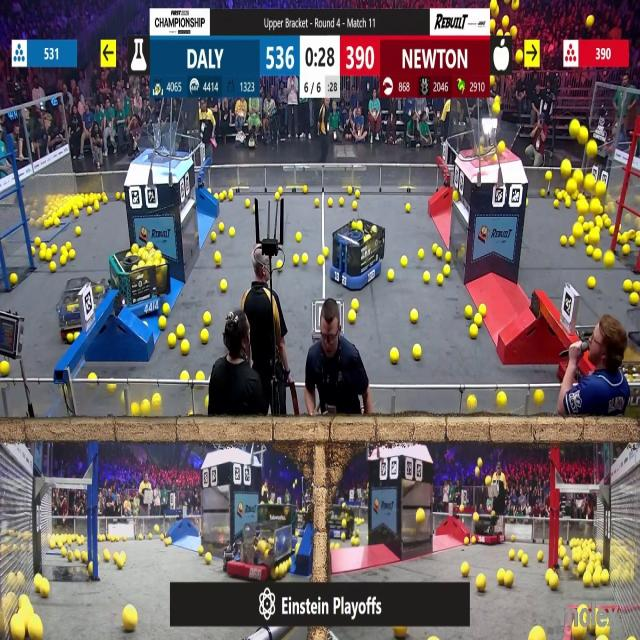ball_airborne: (569, 121, 579, 139), (585, 175, 595, 192), (562, 161, 572, 178), (588, 141, 598, 157), (577, 128, 587, 144), (589, 227, 599, 243), (591, 200, 601, 214), (574, 222, 582, 239), (596, 181, 605, 196), (604, 252, 613, 266), (580, 202, 589, 216), (567, 180, 576, 192), (573, 170, 581, 183), (498, 142, 505, 156), (630, 292, 638, 304), (624, 280, 632, 292), (587, 14, 595, 26), (517, 52, 524, 64), (493, 103, 500, 114), (491, 0, 498, 11), (502, 15, 508, 26), (512, 27, 518, 37), (490, 75, 496, 85), (486, 478, 492, 487), (478, 458, 484, 467), (505, 29, 511, 38), (491, 21, 496, 31), (492, 152, 498, 160), (494, 97, 500, 104), (475, 467, 479, 475), (500, 472, 504, 480), (498, 30, 502, 37)
ball_ground: (124, 608, 138, 633), (530, 628, 544, 640), (478, 576, 487, 594), (40, 582, 49, 599), (0, 360, 10, 375), (503, 570, 512, 586), (497, 392, 506, 407), (550, 574, 559, 589), (467, 395, 476, 410), (593, 571, 602, 586), (140, 403, 150, 416), (390, 348, 398, 364), (201, 328, 210, 342), (534, 390, 543, 404), (414, 345, 422, 360), (180, 341, 188, 355), (461, 562, 469, 576), (204, 312, 212, 326), (169, 335, 177, 349), (132, 404, 140, 418), (601, 570, 609, 584), (417, 510, 425, 524), (177, 324, 185, 337), (160, 316, 168, 329), (594, 248, 602, 261), (348, 311, 356, 324), (584, 573, 592, 586), (469, 324, 476, 338), (497, 570, 504, 584), (473, 314, 481, 326), (116, 557, 124, 569), (412, 310, 419, 323), (214, 252, 221, 265), (163, 304, 170, 316), (589, 277, 596, 289), (465, 307, 472, 319), (220, 280, 227, 292), (577, 562, 584, 574), (388, 271, 395, 282), (423, 273, 430, 284), (563, 558, 570, 569), (522, 555, 529, 566), (205, 554, 212, 565), (81, 552, 88, 563), (622, 233, 629, 244), (445, 266, 451, 278), (352, 300, 358, 312), (10, 274, 16, 286), (436, 275, 442, 287), (58, 246, 67, 254), (69, 250, 76, 260), (302, 254, 309, 264), (181, 369, 188, 379), (446, 252, 453, 262), (44, 251, 51, 261), (634, 281, 640, 292), (52, 243, 58, 254), (89, 562, 95, 573), (596, 215, 602, 226), (90, 374, 98, 382), (435, 248, 442, 257), (507, 551, 514, 560), (419, 248, 425, 258), (50, 264, 56, 274), (588, 246, 594, 256), (568, 236, 574, 246), (624, 245, 630, 255), (211, 233, 217, 243), (561, 236, 567, 246), (218, 222, 224, 232), (104, 552, 110, 562), (61, 255, 67, 265), (228, 226, 234, 236), (292, 257, 298, 267), (68, 335, 74, 345), (75, 551, 81, 561), (39, 250, 45, 260), (564, 198, 570, 208), (559, 549, 565, 559), (198, 373, 205, 381), (165, 536, 172, 544), (108, 384, 115, 392), (537, 553, 543, 562), (545, 172, 551, 181), (352, 202, 358, 211), (354, 189, 360, 198), (407, 204, 413, 213), (68, 552, 74, 561), (401, 256, 406, 266), (481, 306, 486, 316), (295, 233, 300, 243), (227, 189, 232, 199), (318, 256, 324, 264), (539, 188, 545, 196), (199, 545, 205, 553), (74, 210, 80, 218), (608, 226, 614, 234), (66, 242, 72, 250), (219, 191, 225, 199), (348, 186, 354, 194), (61, 550, 67, 558), (95, 204, 101, 212), (44, 220, 50, 228), (555, 200, 560, 209), (327, 199, 332, 208), (35, 238, 40, 247), (585, 236, 590, 245), (516, 552, 521, 561), (584, 222, 589, 231), (618, 234, 622, 245), (76, 225, 80, 235), (340, 199, 345, 207), (243, 201, 248, 209), (89, 207, 94, 215), (154, 525, 159, 533), (354, 537, 359, 545), (636, 237, 640, 247), (304, 185, 309, 193), (56, 218, 61, 226), (432, 244, 437, 252), (279, 186, 284, 194), (355, 529, 360, 537), (324, 248, 328, 257), (278, 262, 282, 271), (32, 247, 36, 256), (470, 537, 475, 544), (99, 534, 104, 541), (464, 536, 468, 544), (316, 200, 320, 208), (276, 192, 280, 200), (116, 191, 120, 199), (120, 191, 124, 199), (139, 534, 144, 540), (512, 536, 517, 542), (148, 536, 152, 543), (343, 536, 347, 543), (578, 215, 582, 222), (102, 197, 106, 204), (188, 412, 192, 418), (123, 535, 126, 541)
goal: (466, 122, 522, 161), (130, 130, 189, 160)
robot_blue: (110, 244, 174, 319), (330, 217, 384, 291), (621, 332, 640, 394), (330, 506, 360, 540)
robot_red: (229, 520, 296, 580), (474, 513, 508, 545)
